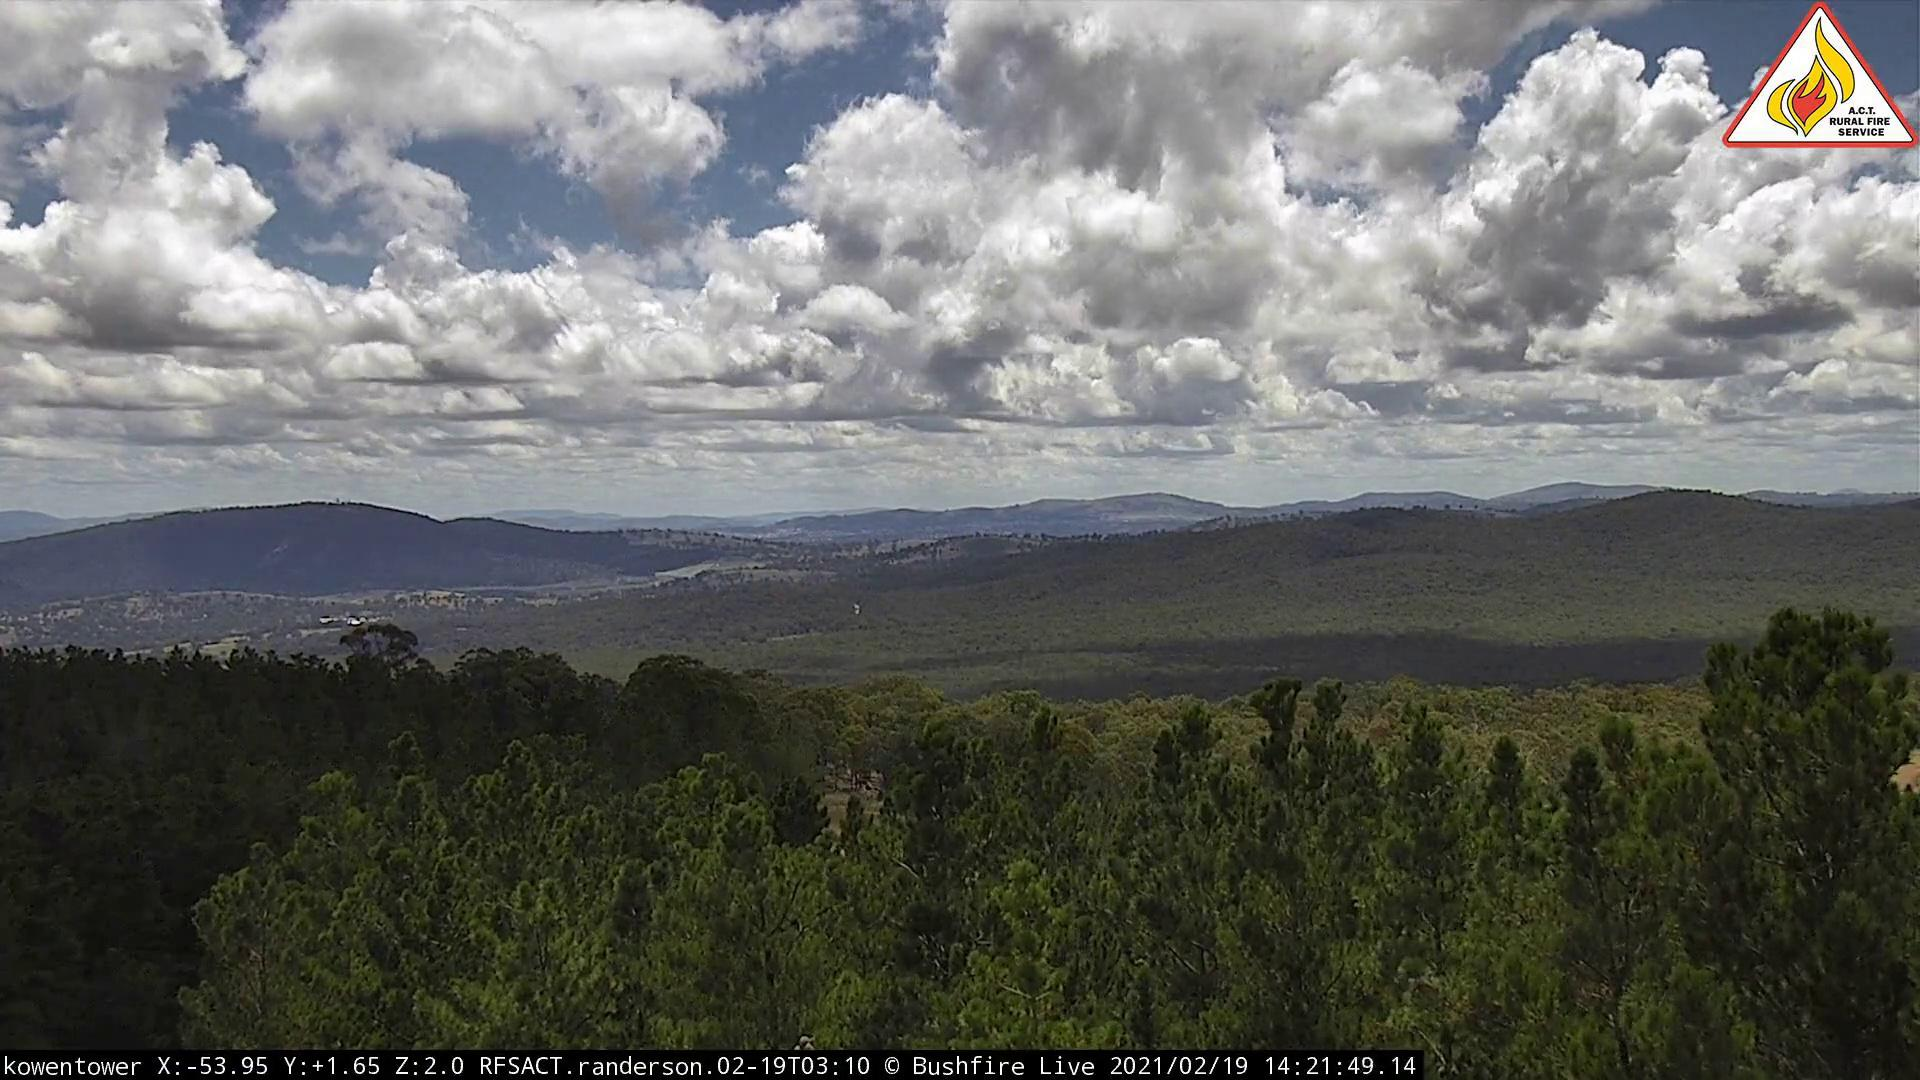Smoke: (964, 518, 1007, 550)
